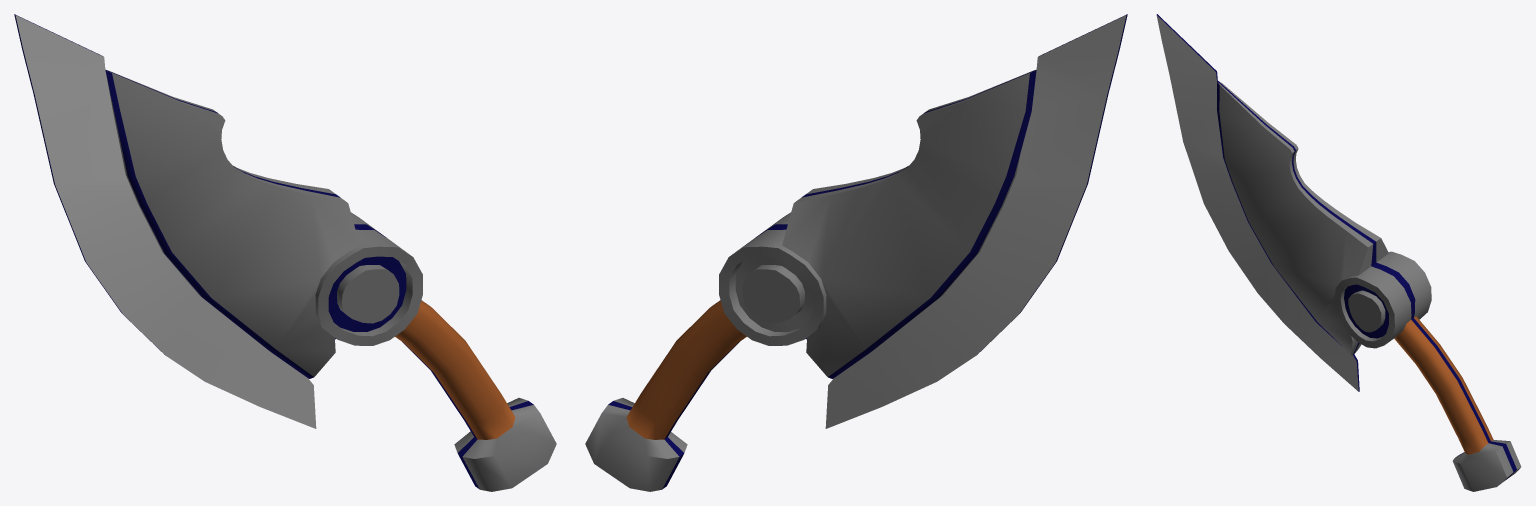
Rendered from kılıç 1 .fbx.
The picture shows the model from 3 angles, left to right: view 1: azimuth 30°, elevation 25°; view 2: azimuth 150°, elevation 25°; view 3: azimuth 330°, elevation 25°; orthographic projection. The views are drawn at different scales.
Visible parts, largest first — view 1: dagger; view 2: dagger; view 3: dagger.
Boxes of the visible parts, box(x1,y1,x2,y2) form: dagger: box(14, 14, 556, 491); dagger: box(585, 14, 1127, 491); dagger: box(1156, 14, 1521, 491).
Bounding box in the file's own units: 2.49 × 2.61 × 0.4416.
